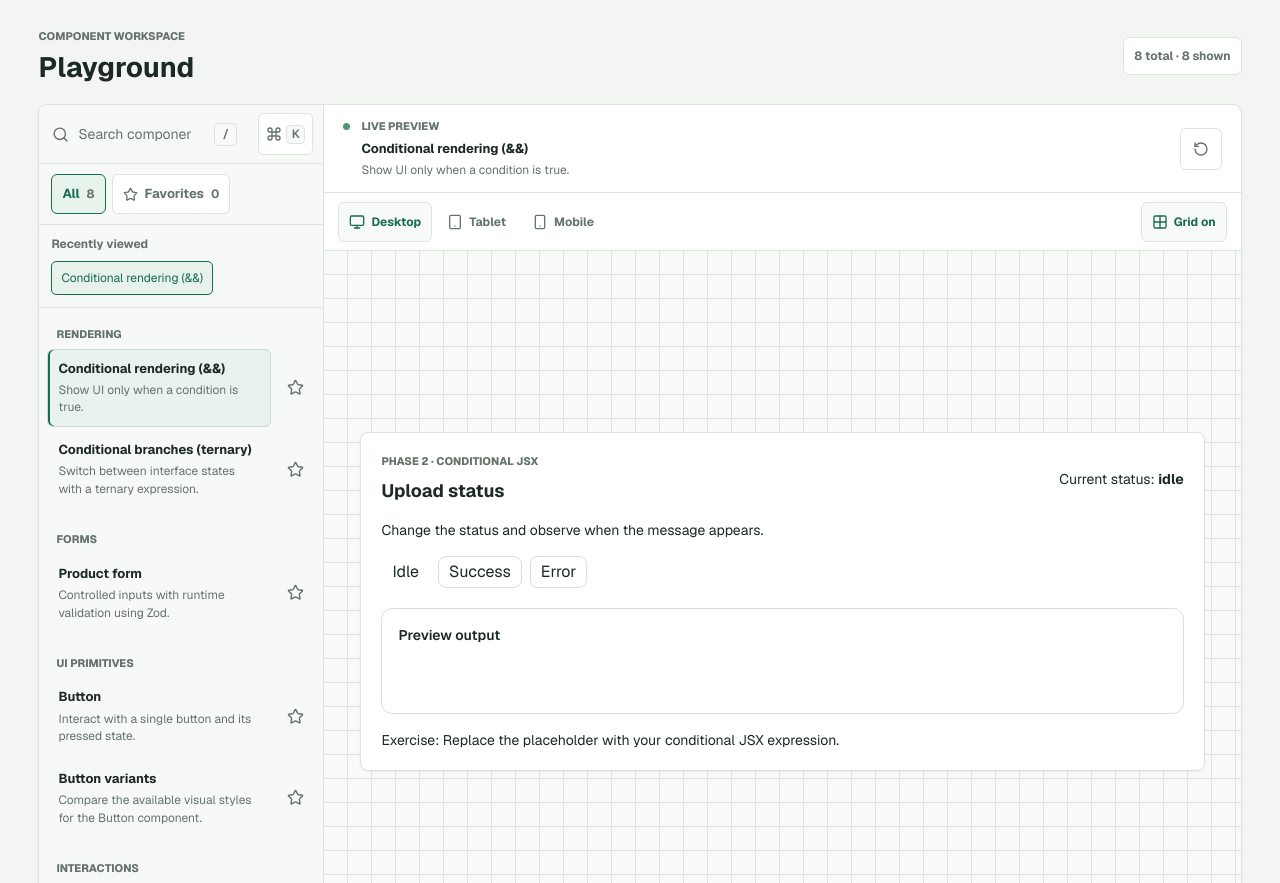
Test: Playground interactions › falls back safely from an invalid URL ID and an unavailable stored selection
Check: the heading "Playground" is shown, box 38,50 -> 194,84
Check: the heading "Upload status" is shown, box 381,479 -> 504,502
Click the button "Favorites 0". click: coordinates (171, 194)
box: 112,174 -> 230,214
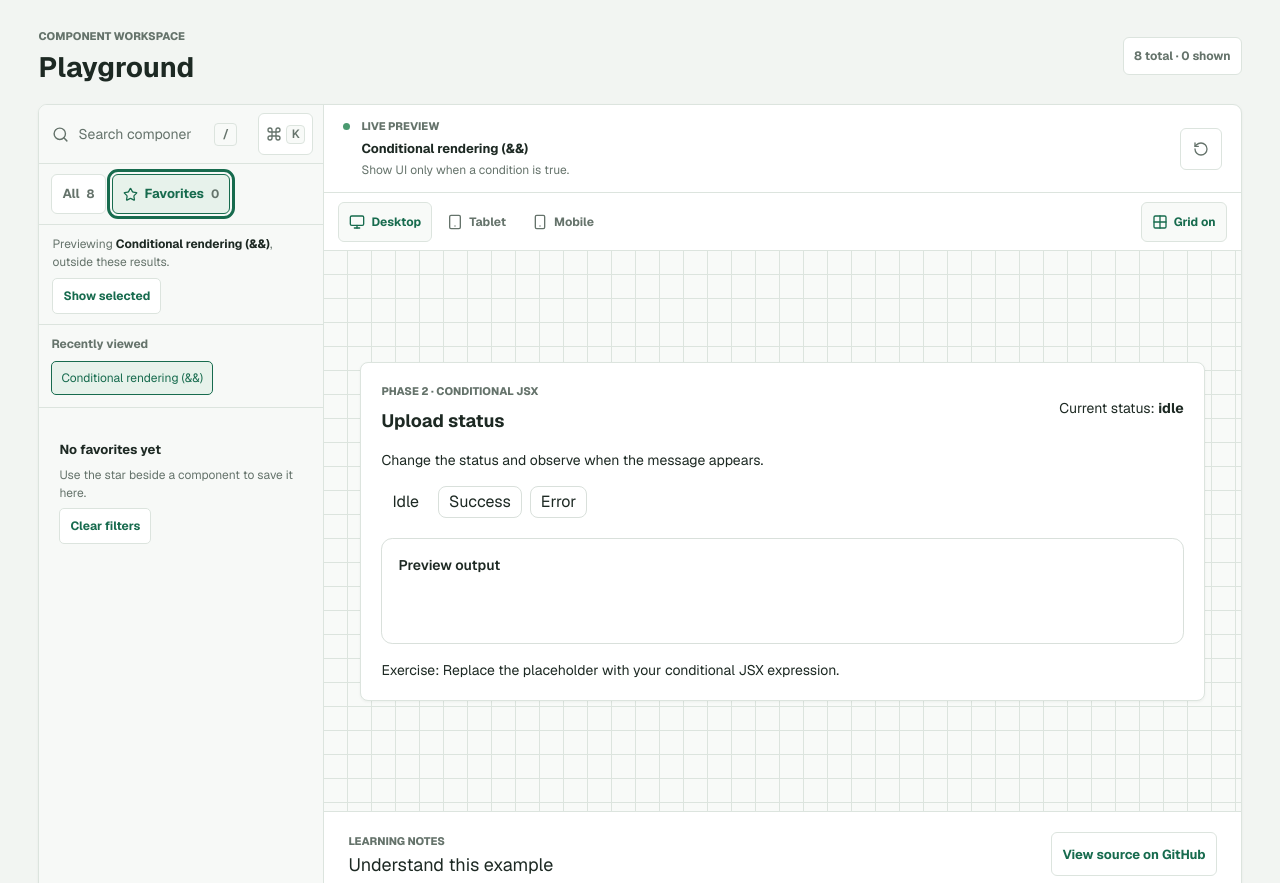
Check: the text "No favorites yet" is shown, box 59,441 -> 161,458
